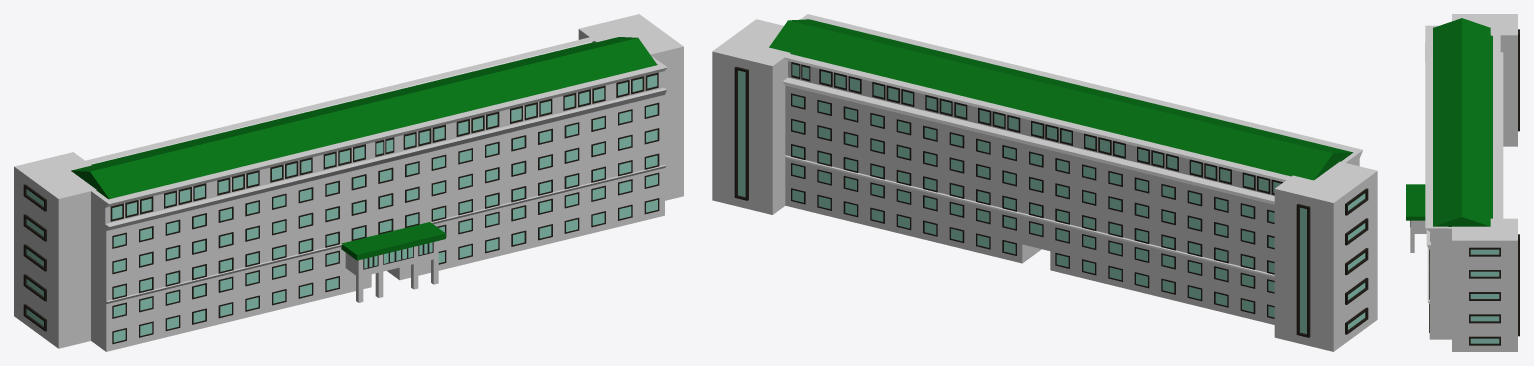
Rendered from St Joseph Hall.fbx.
3 renders of one model, left to right at view 1: azimuth 30°, elevation 25°; view 2: azimuth 150°, elevation 25°; view 3: azimuth 270°, elevation 25°, orthographic. The views are drawn at different scales.
Parts seen in each view (by area): view 1: St Joseph Hall; view 2: St Joseph Hall; view 3: St Joseph Hall.
Boxes of the visible parts, left/top/right/bottom form: St Joseph Hall: left=14, top=14, right=683, bottom=351; St Joseph Hall: left=712, top=14, right=1377, bottom=351; St Joseph Hall: left=1406, top=14, right=1519, bottom=351.
Bounding box in the file's own units: 269 × 66.66 × 56.84.
